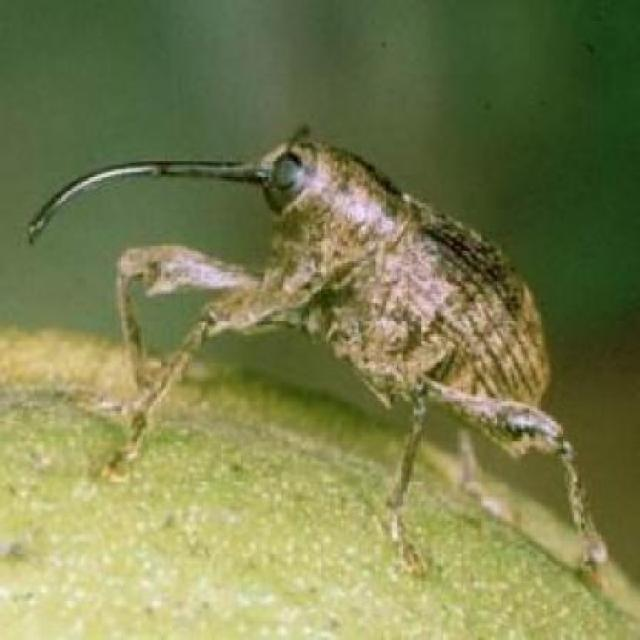rice-bug: (25, 134, 613, 572)
